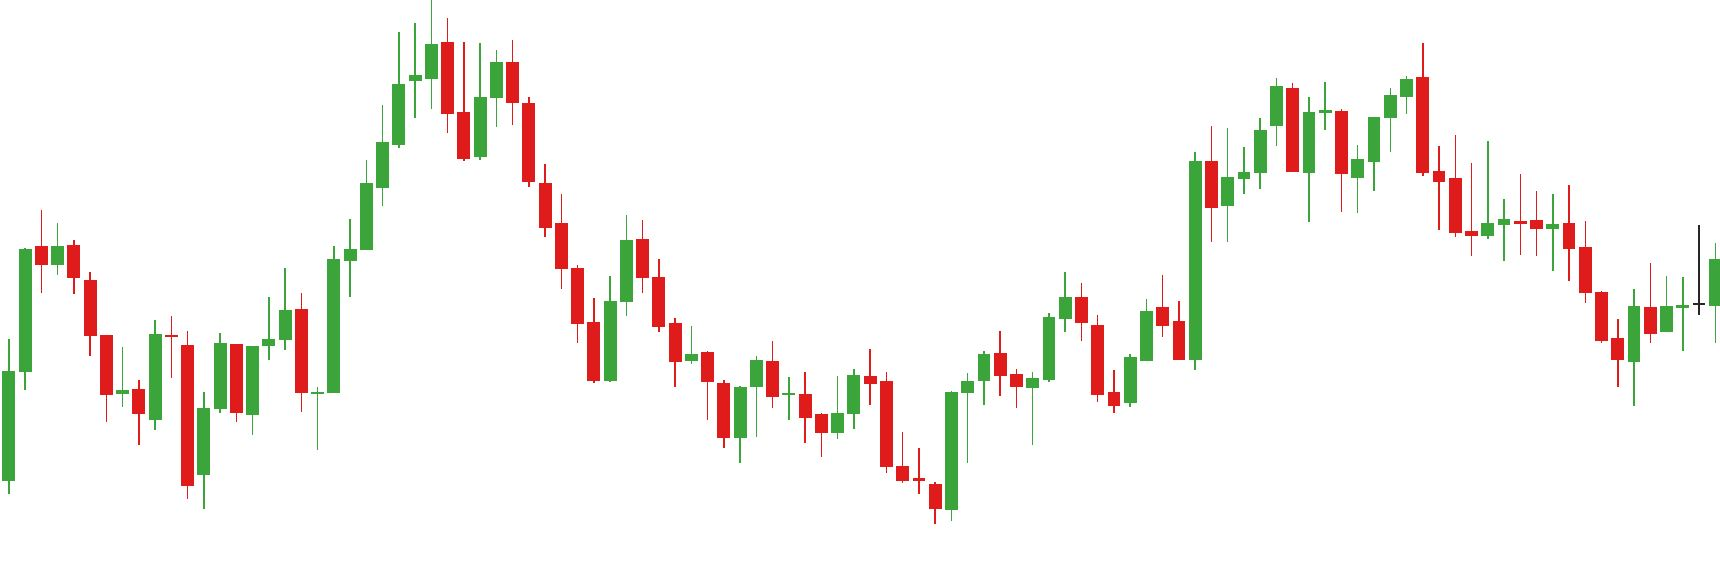buy: (816, 396, 963, 524), (226, 307, 325, 456)
sell: (1319, 35, 1429, 150)
